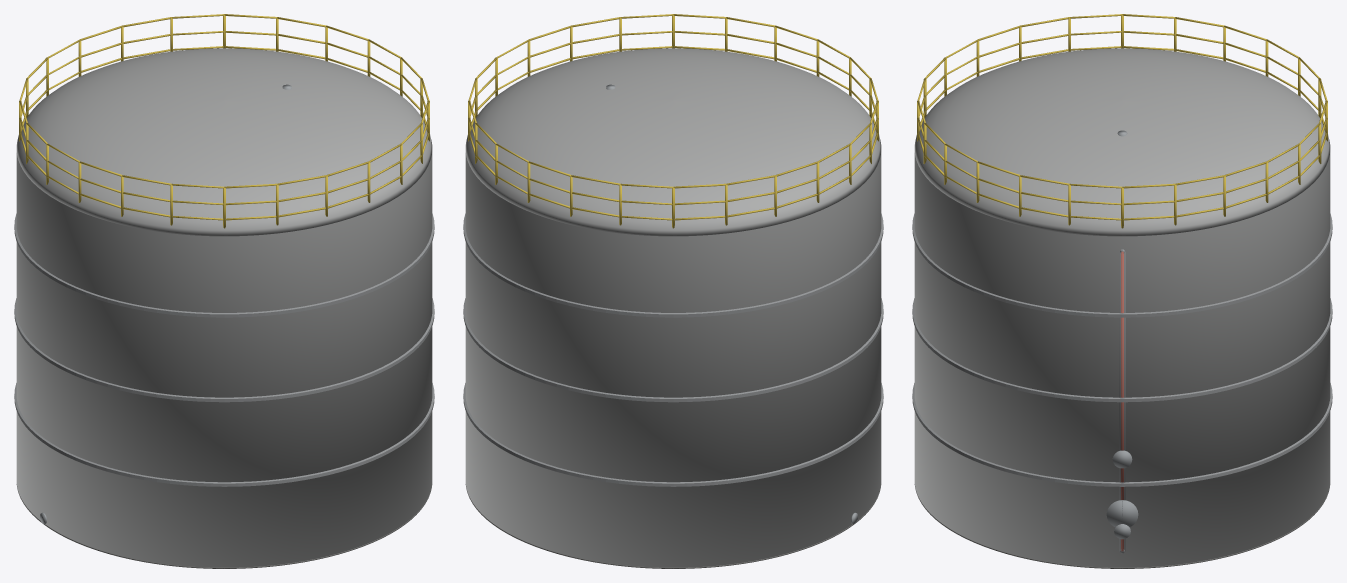
Rendered from tank_lod0.glb.
3 views of the same model, side by side, from view 1: azimuth 30°, elevation 25°; view 2: azimuth 150°, elevation 25°; view 3: azimuth 270°, elevation 25° (orthographic).
Visible parts, largest first — view 1: tk_static; view 2: tk_static; view 3: tk_static, tk_gauge_liquid.
Part boxes in pixels (bbox=[...]): tk_static: bbox=[14, 14, 434, 568]; tk_static: bbox=[463, 14, 883, 568]; tk_static: bbox=[912, 14, 1332, 568]; tk_gauge_liquid: bbox=[1121, 251, 1123, 551].
Size of the model in its own units: 9 by 9 by 9.
